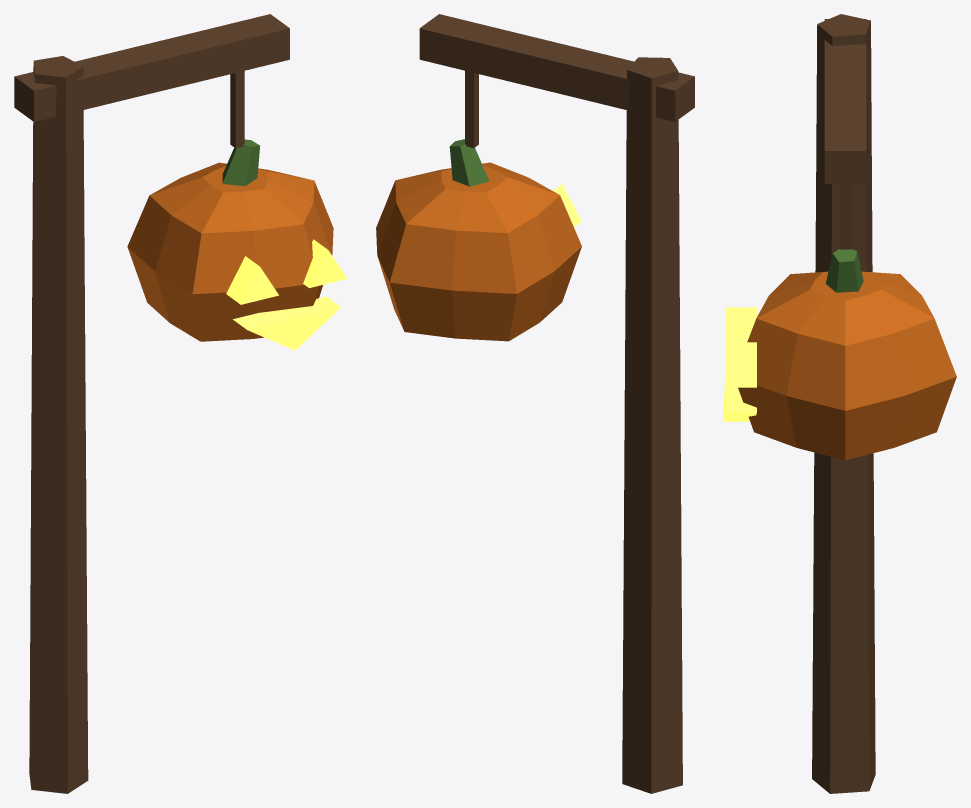
File: deco_lantern.glb
The picture shows the model from 3 angles, left to right: view 1: azimuth 30°, elevation 25°; view 2: azimuth 150°, elevation 25°; view 3: azimuth 270°, elevation 25°; orthographic projection. The views are drawn at different scales.
Visible parts, largest first — view 1: deco_lantern_mesh; view 2: deco_lantern_mesh; view 3: deco_lantern_mesh.
Part boxes in pixels (left/top/right/bottom): deco_lantern_mesh: left=14, top=14, right=347, bottom=793; deco_lantern_mesh: left=376, top=14, right=694, bottom=793; deco_lantern_mesh: left=723, top=14, right=956, bottom=793.
Size of the model in its own units: 0.145 by 0.32 by 0.0898.
